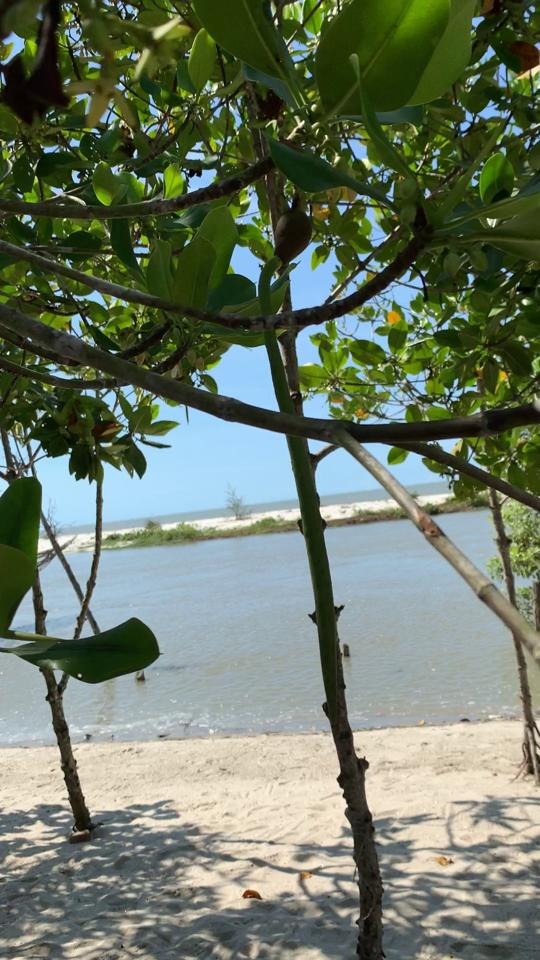setengah matang: (245, 196, 359, 738)
